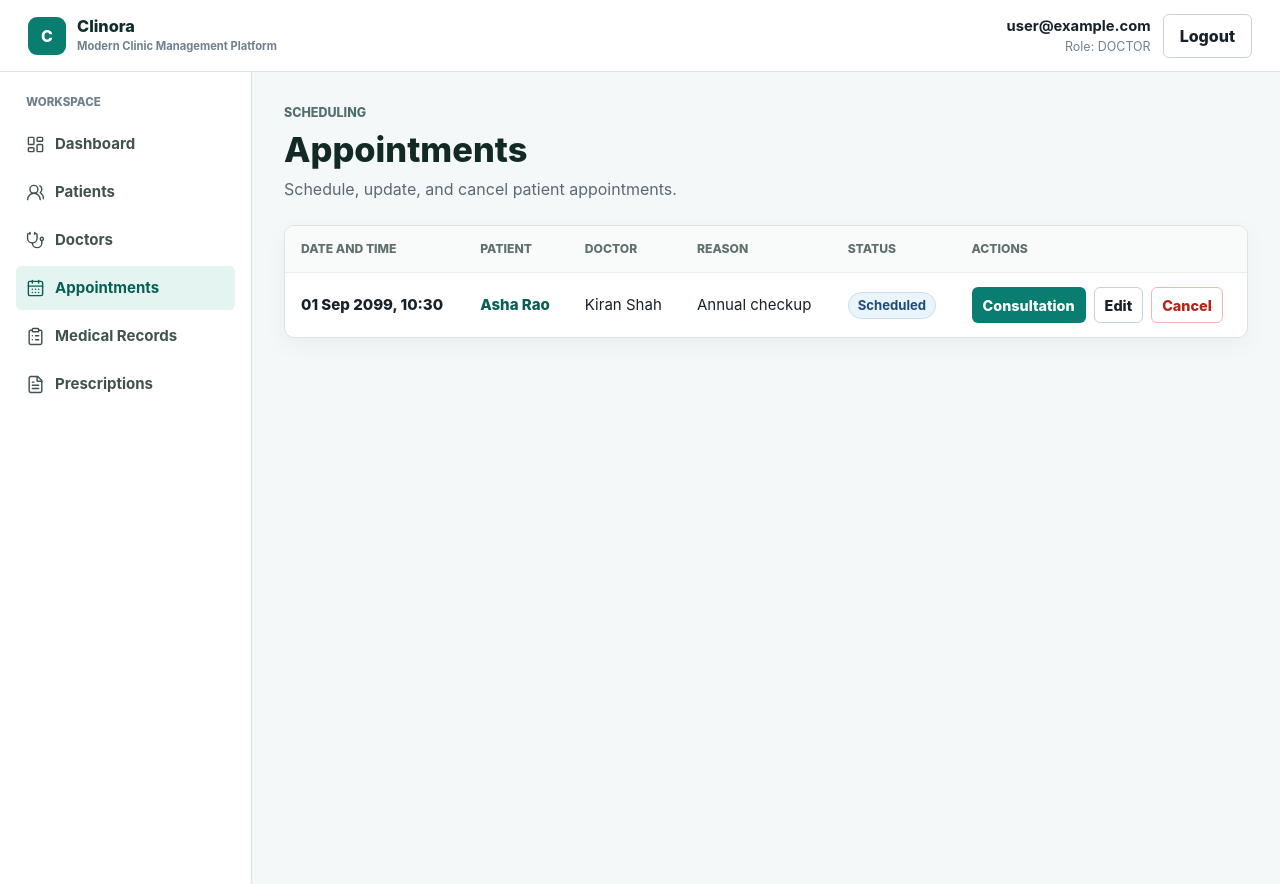
Test: AppointmentsPage › updates an existing appointment and preserves relationship IDs
Click the button "Edit".
click(1118, 306)  # box x1=1094 y1=288 x2=1143 y2=324
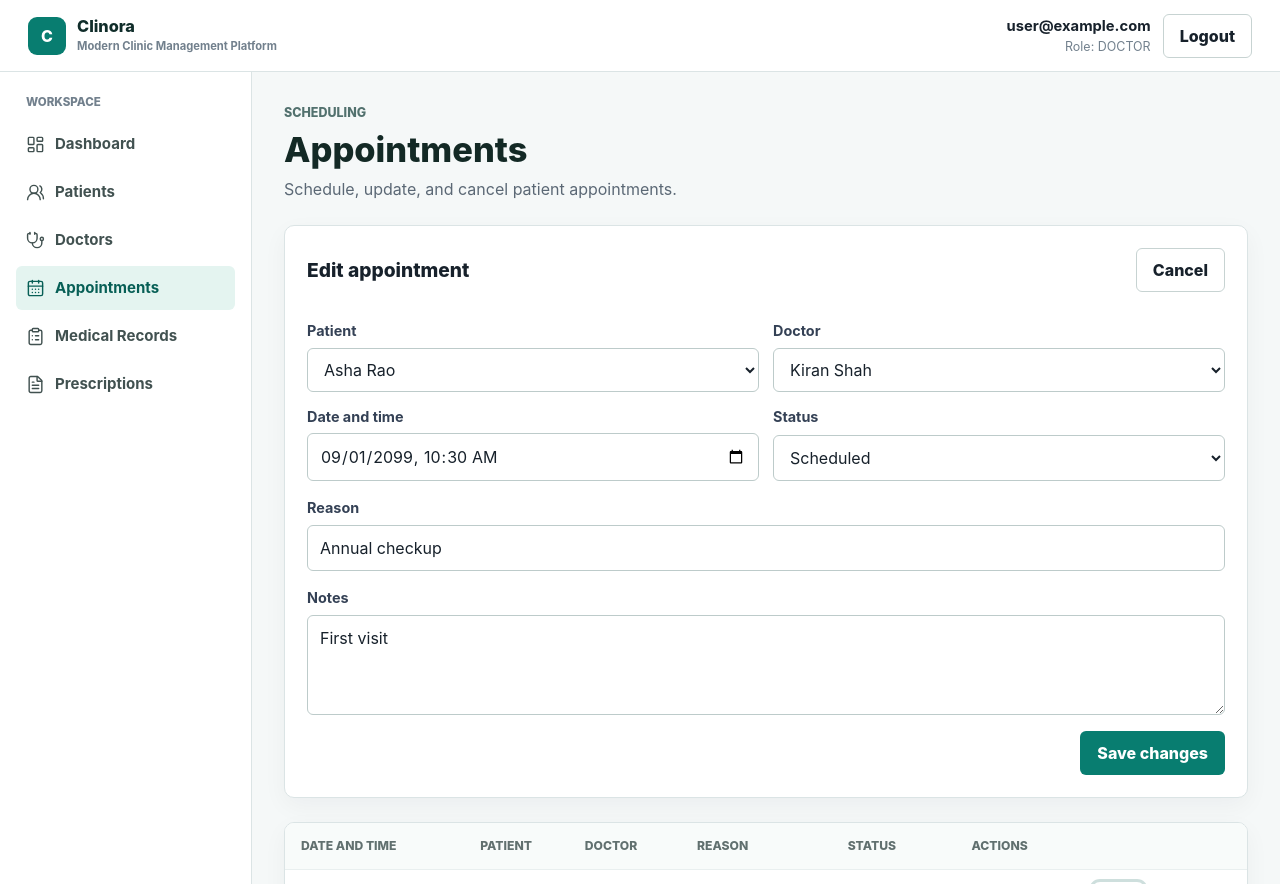
Expected: the field labelled "Date and time" holds "2099-09-01T10:30"
Replace the text in the field labelled "Date and time" with "2099-09-03T12:15" at {"x": 533, "y": 458}, box x1=307 y1=434 x2=759 y2=482
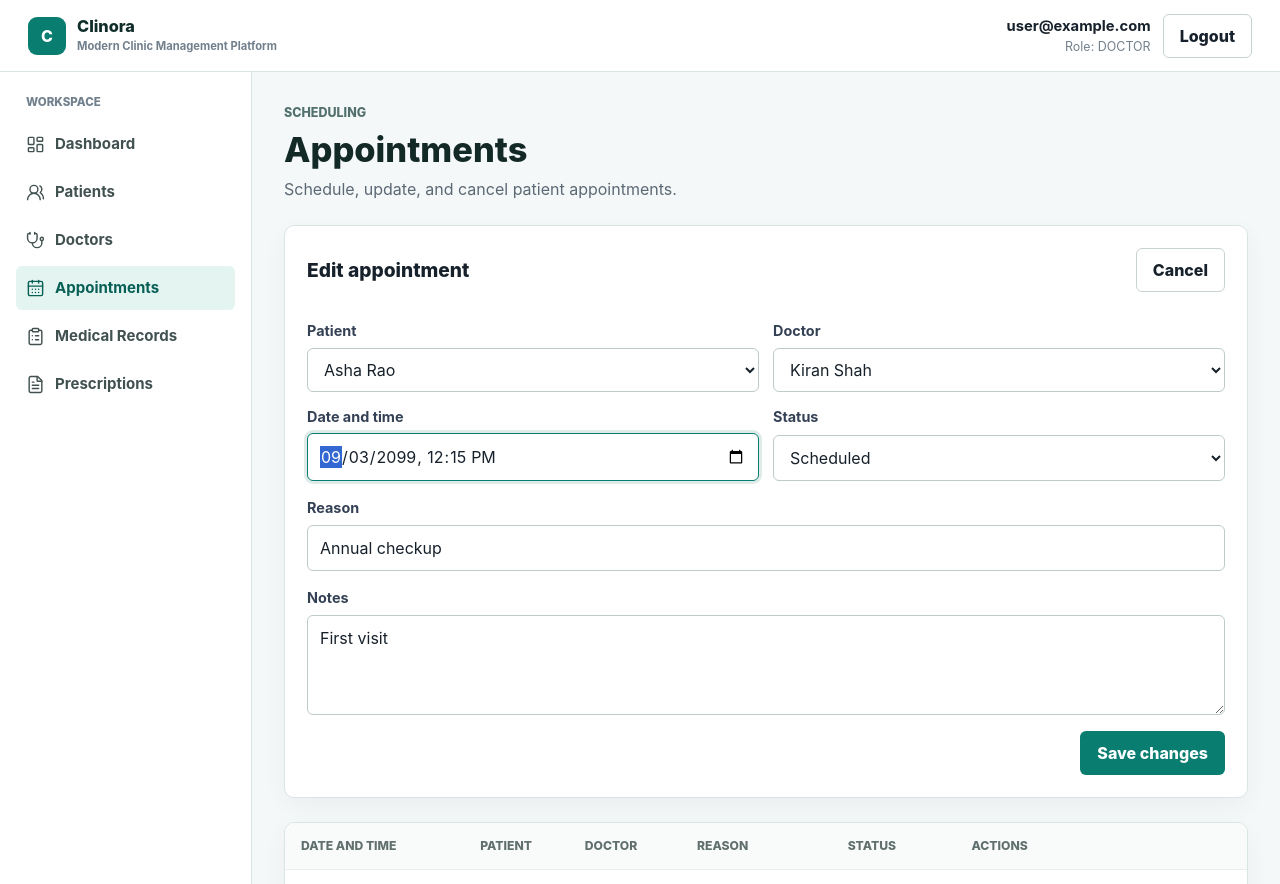
Replace the text in the field labelled "Reason" with "Confirmed visit" at {"x": 766, "y": 548}, box x1=307 y1=525 x2=1225 y2=571
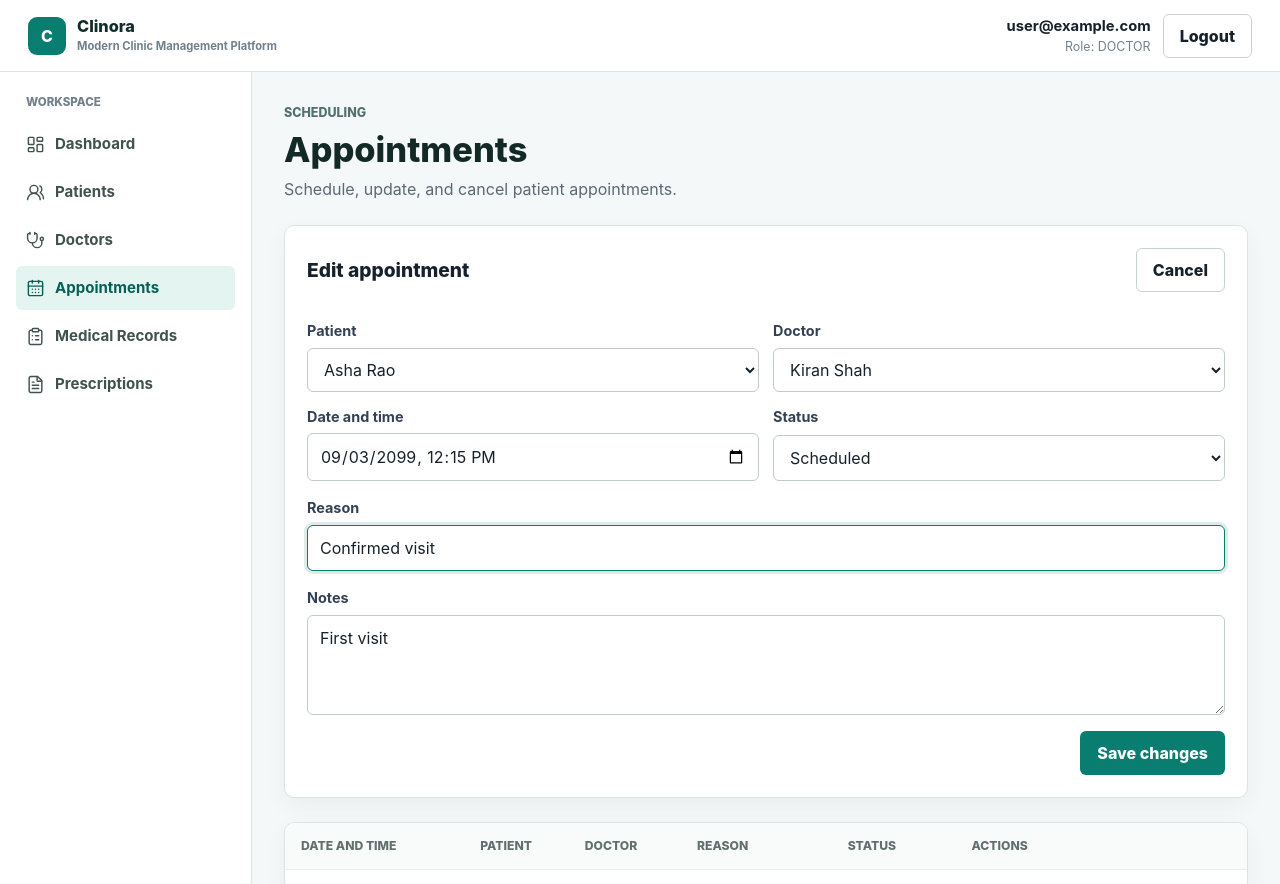
Select "Confirmed" in the dropdown labelled "Status" at {"x": 999, "y": 458}, box x1=773 y1=436 x2=1225 y2=482
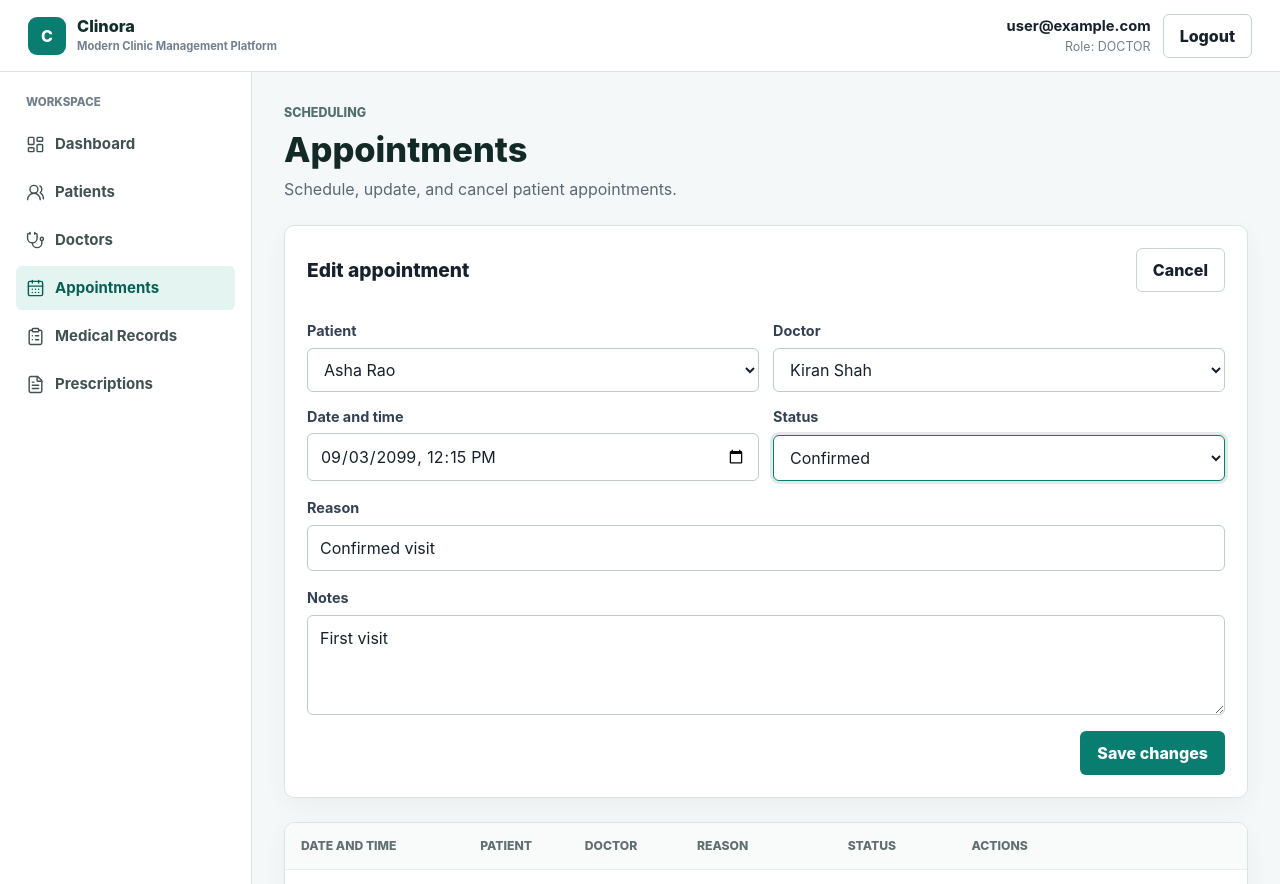
Click the button "Save changes".
click(1153, 753)  # box x1=1080 y1=731 x2=1225 y2=775
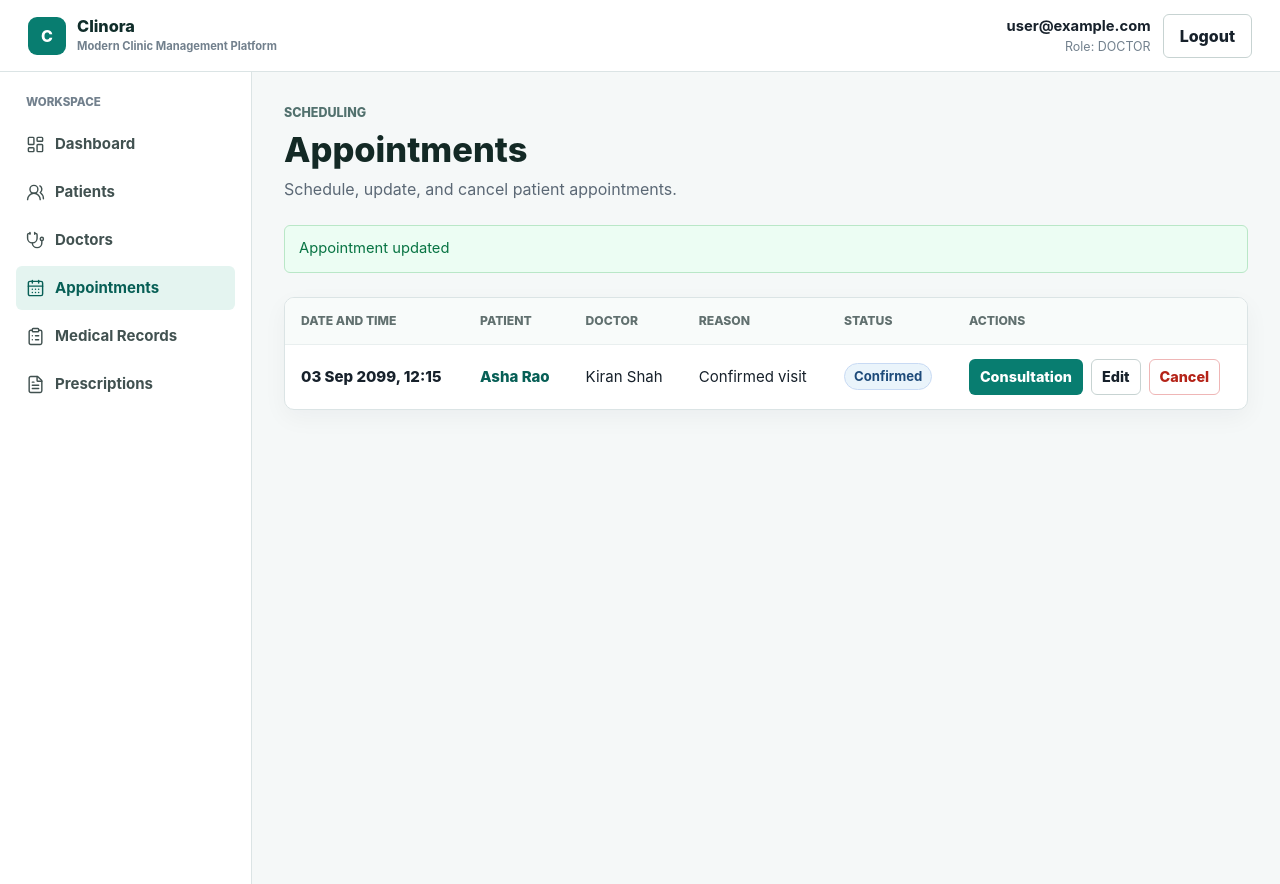
Expected: the message reads "Appointment updated", x1=299 y1=239 x2=450 y2=257
Expected: the text "Confirmed visit" is shown, x1=683 y1=344 x2=828 y2=409
